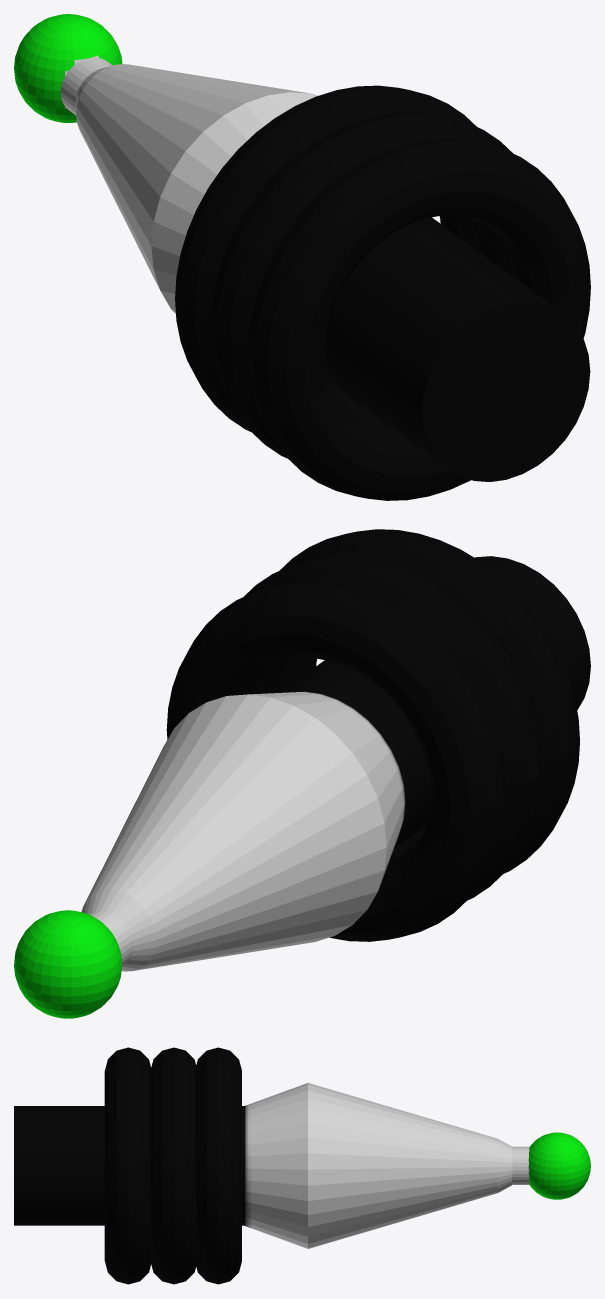
File: 传送枪转换头.fbx
The picture shows the model from 3 angles, top to bottom: view 1: azimuth 30°, elevation 25°; view 2: azimuth 150°, elevation 25°; view 3: azimuth 270°, elevation 25°; orthographic projection. The views are drawn at different scales.
Visible parts, largest first — view 1: 球体; view 2: 球体; view 3: 球体.
Boxes of the visible parts, <box> form: 球体: <box>14,14,590,500</box>; 球体: <box>14,529,590,1018</box>; 球体: <box>14,1047,590,1284</box>.
Size of the model in its own units: 101 by 101 by 246.
2 materials, 1 textured.
